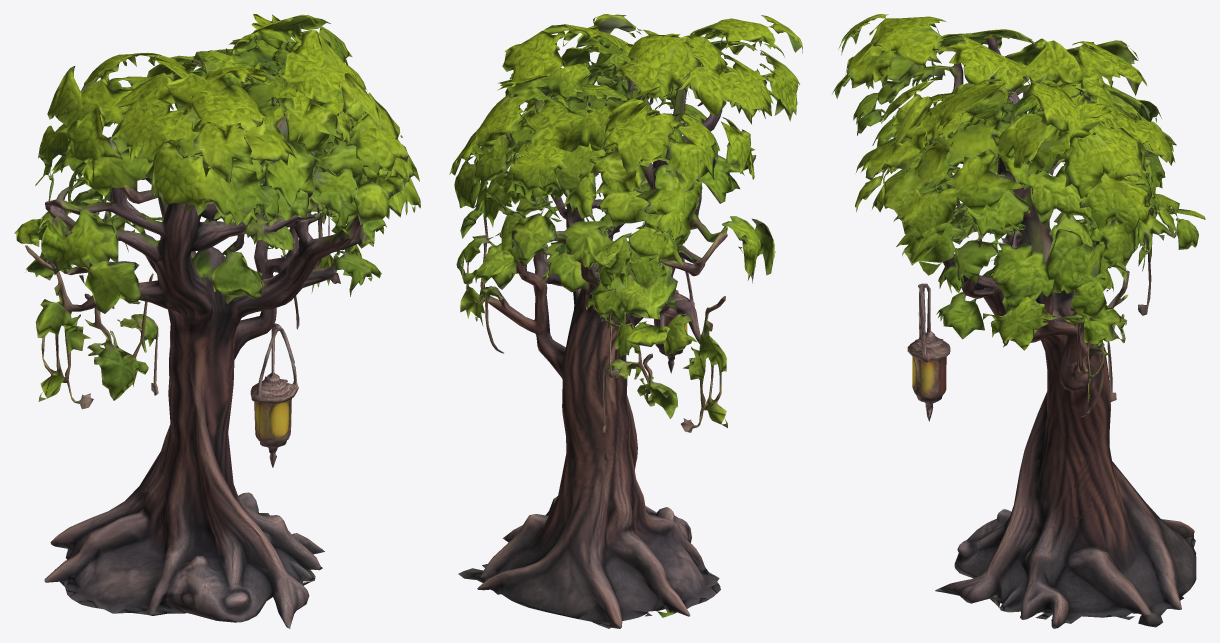
Rendered from CayDaCoThu_LangViet.fbx.
3 views of the same model, side by side, from view 1: azimuth 30°, elevation 25°; view 2: azimuth 150°, elevation 25°; view 3: azimuth 270°, elevation 25° (orthographic). The views are drawn at different scales.
Visible parts, largest first — view 1: Mesh_0; view 2: Mesh_0; view 3: Mesh_0.
Boxes of the visible parts, x1,y1,x2,y2 form: Mesh_0: (14,14,420,628); Mesh_0: (449,14,802,628); Mesh_0: (832,14,1205,628).
Size of the model in its own units: 108 by 189 by 120.
1 material, 1 textured.
